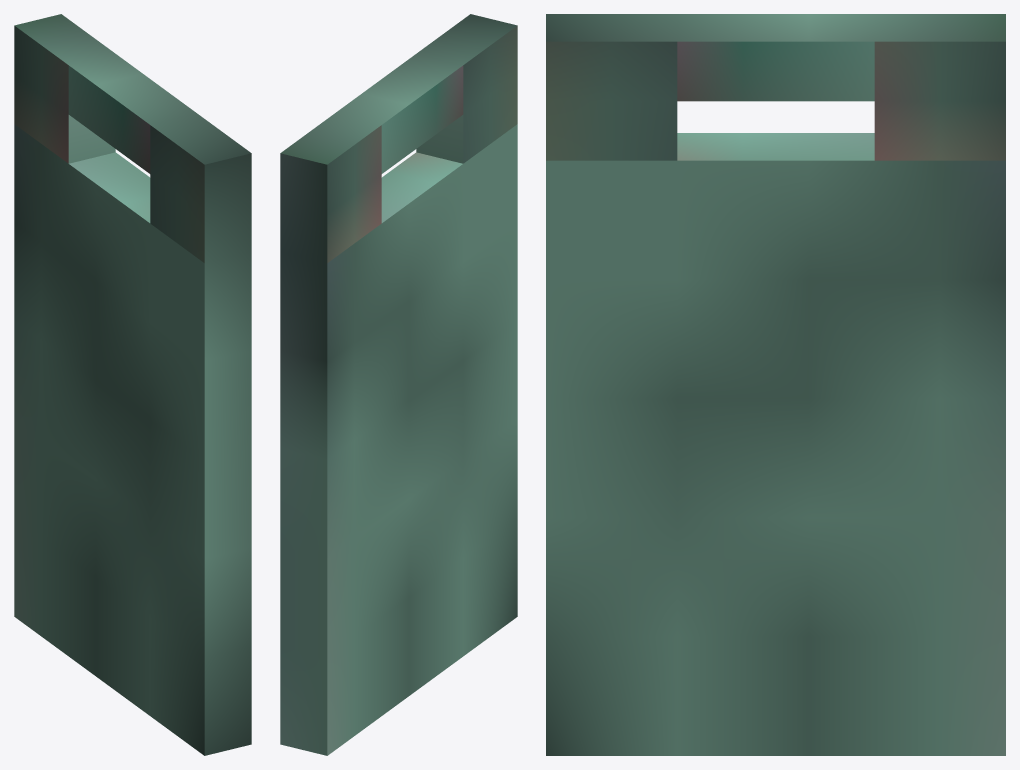
The model's file is CuttingWood_00.fbx.
The picture shows the model from 3 angles, left to right: view 1: azimuth 30°, elevation 25°; view 2: azimuth 150°, elevation 25°; view 3: azimuth 270°, elevation 25°; orthographic projection. The views are drawn at different scales.
Visible parts, largest first — view 1: CuttingWood_00; view 2: CuttingWood_00; view 3: CuttingWood_00.
Part boxes in pixels (x1,y1,x2,y2): CuttingWood_00: (14, 14, 251, 755); CuttingWood_00: (280, 14, 517, 755); CuttingWood_00: (546, 14, 1005, 755).
Size of the model in its own units: 5 by 60 by 35.
